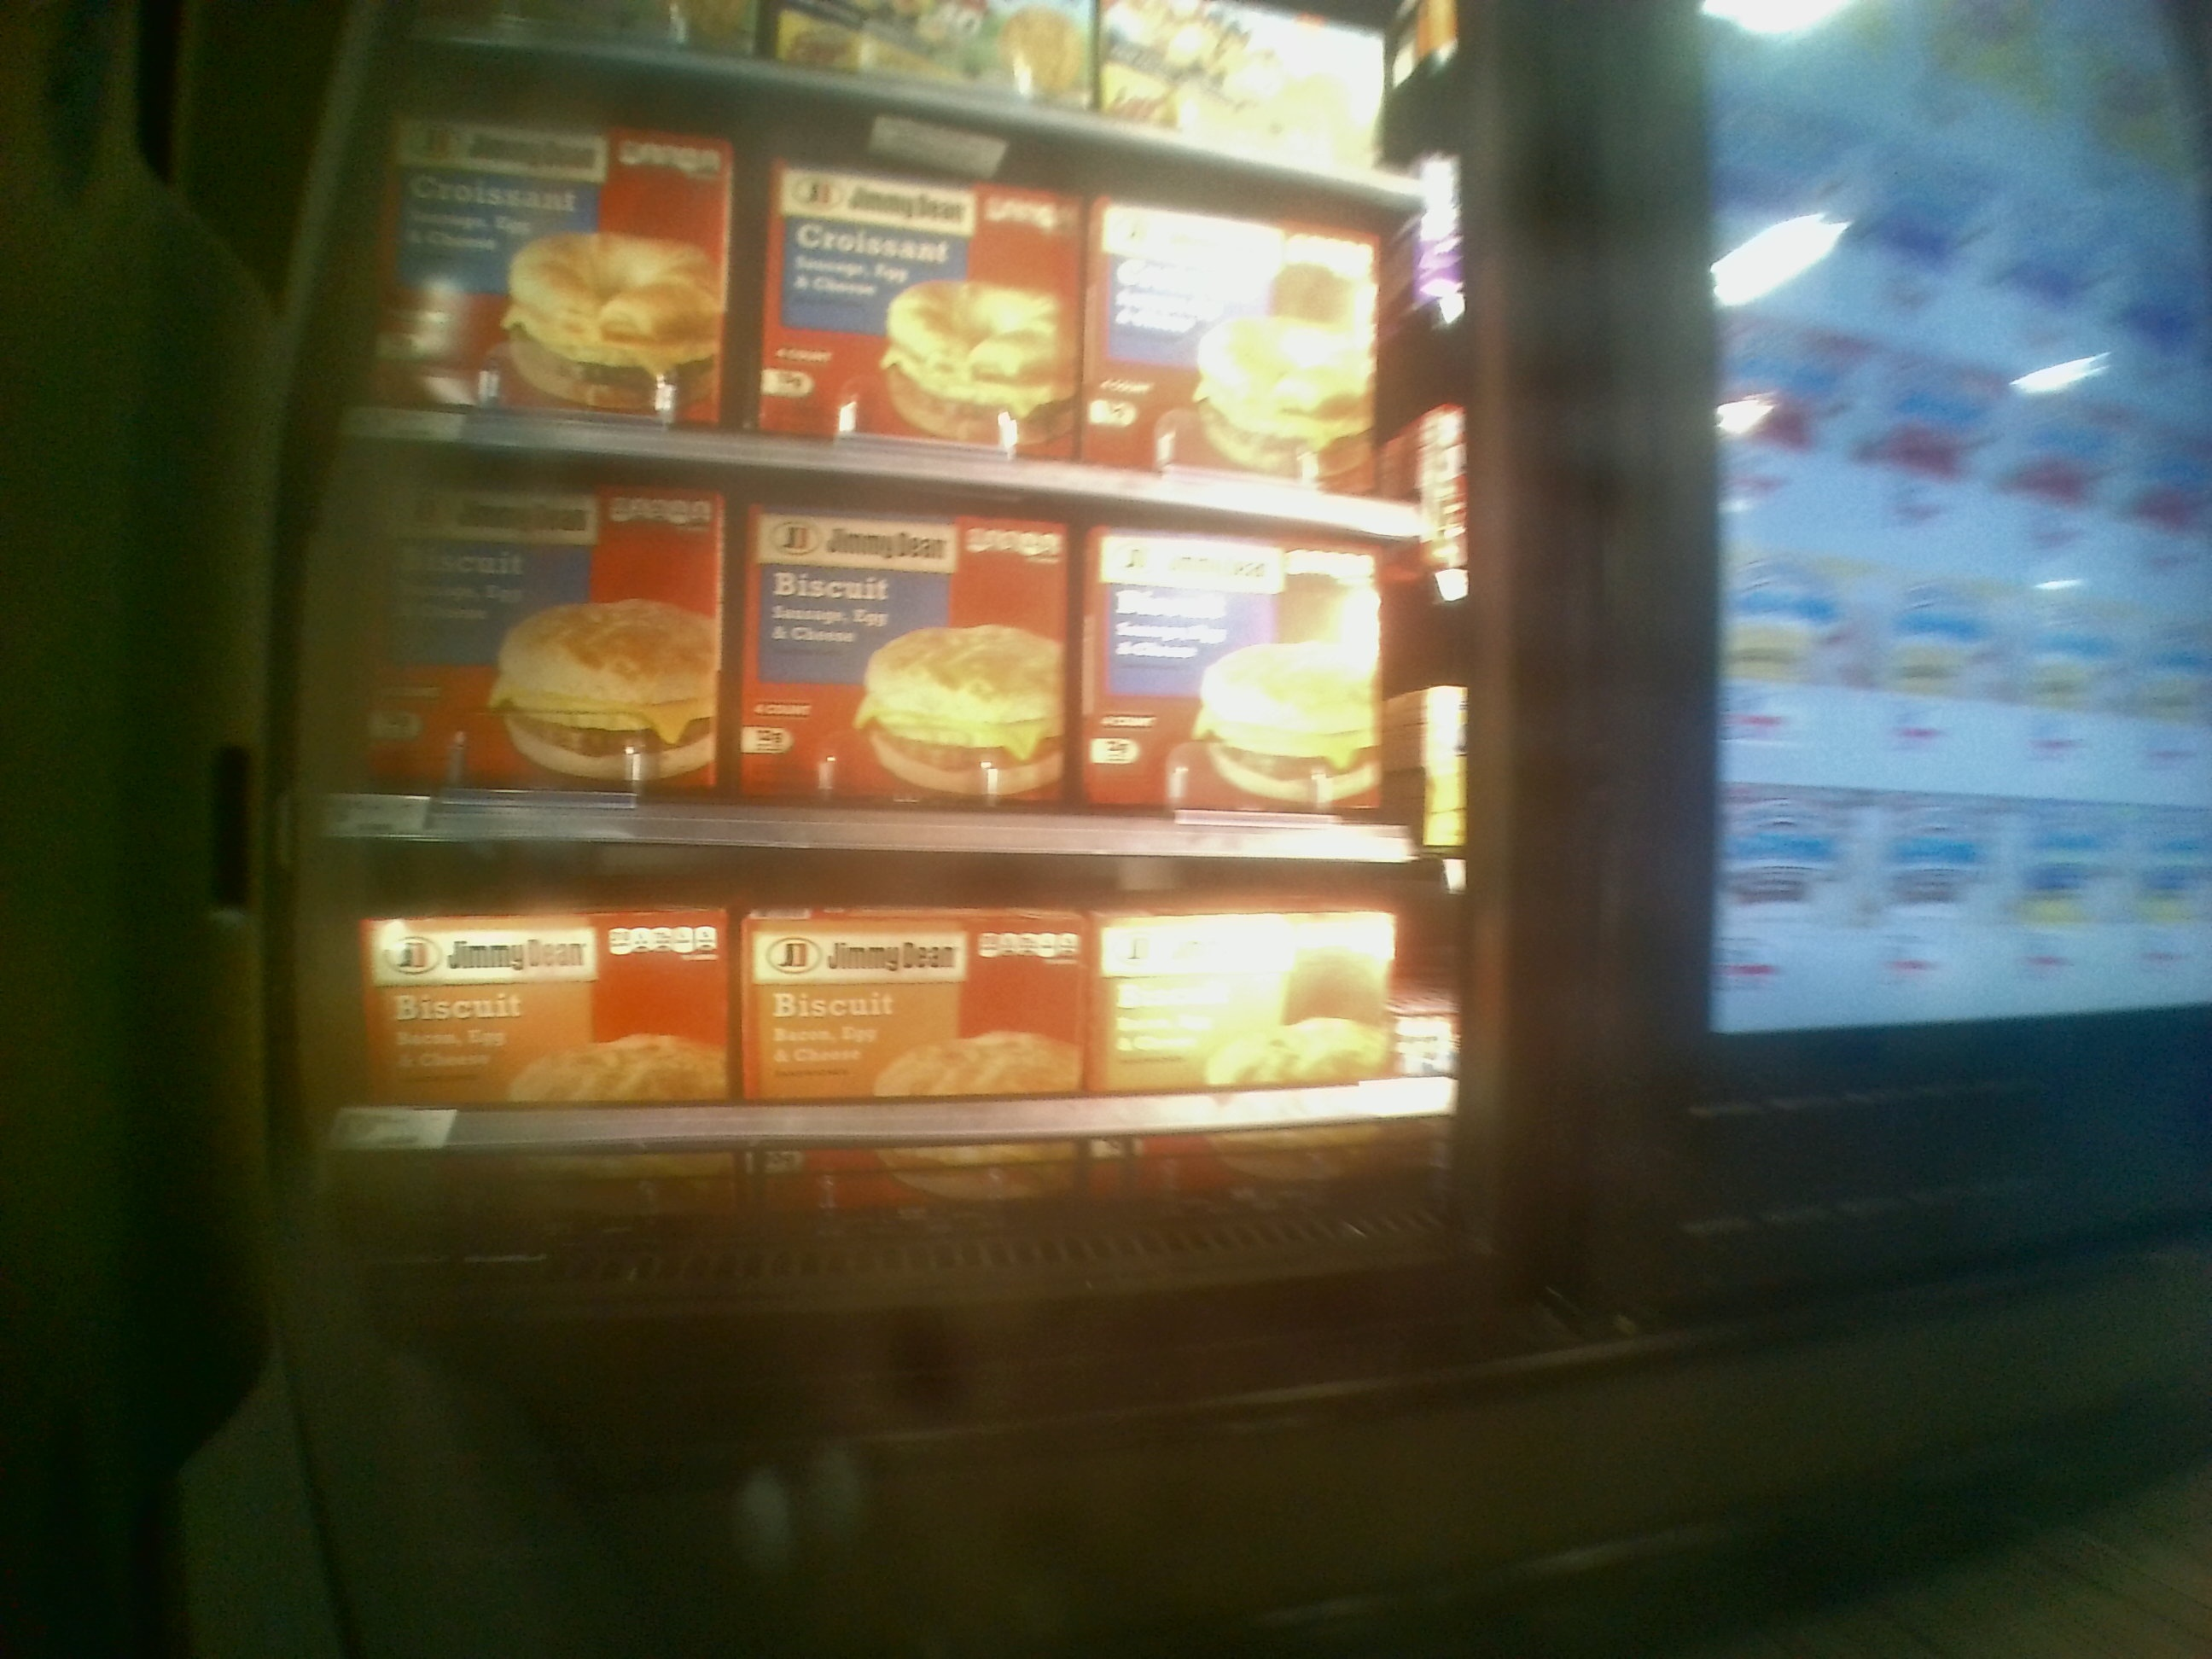shelf: (314, 437, 1435, 847), (315, 852, 1468, 1225)
